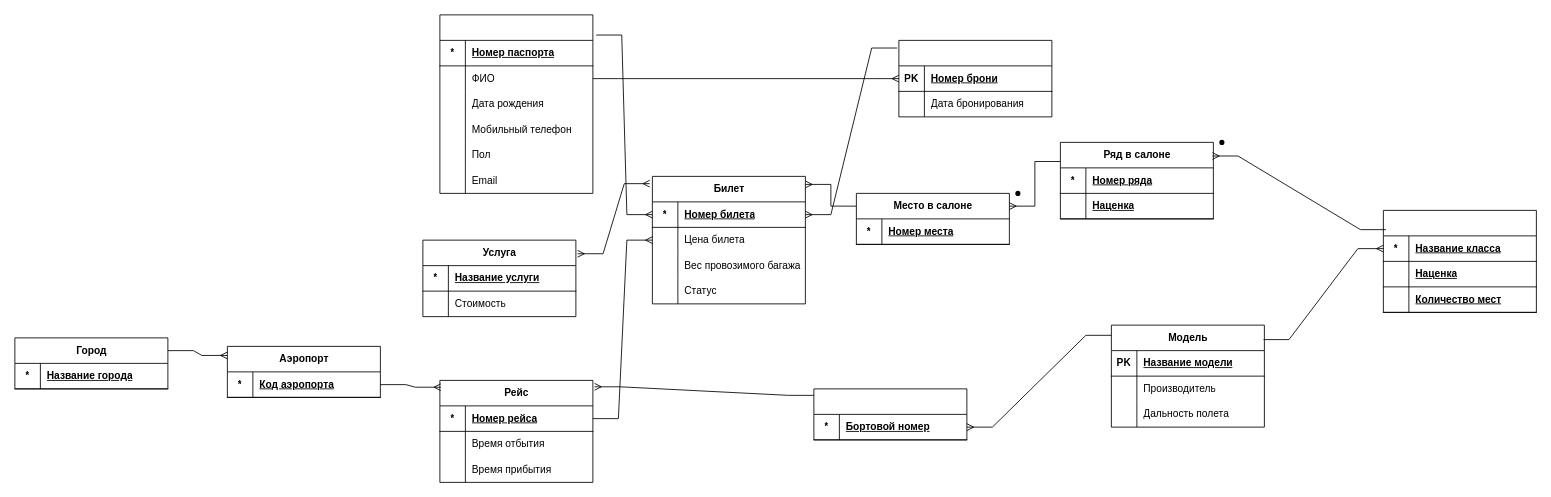
This 1551x497 diagram has some shape labels left out. The shapes that lost their labels are listed below. From the top down, each one's box as (x1, y1, x2, y2) in pixels, then its label:
(898, 40, 1052, 117): Бронирование
(439, 14, 593, 193): Пассажир
(1383, 210, 1536, 312): Класс обслуживания
(813, 388, 967, 440): Воздушное судно
